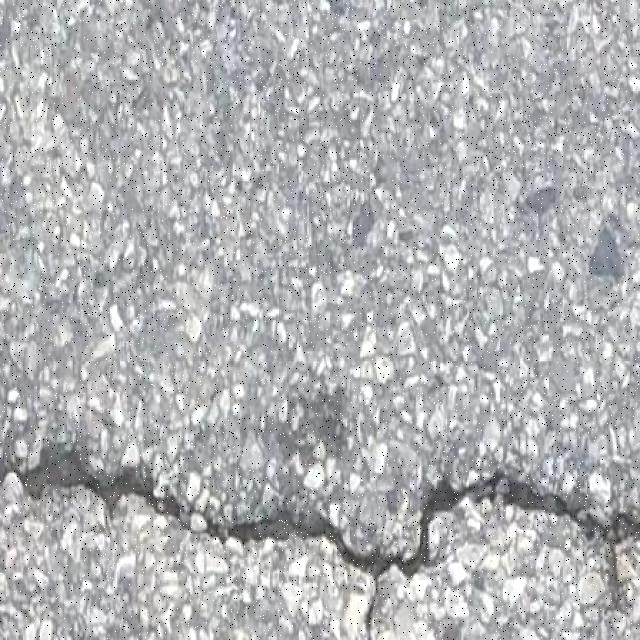Crack: (194, 471, 640, 606), (195, 471, 640, 606), (0, 455, 188, 532), (370, 589, 378, 639)
